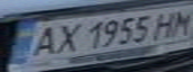1: (81, 18, 106, 50)
5: (130, 11, 160, 43), (118, 15, 139, 46)
9: (100, 16, 124, 48)
A: (21, 24, 63, 58)
H: (148, 8, 184, 39)
M: (166, 6, 193, 37)
X: (48, 20, 84, 56)
